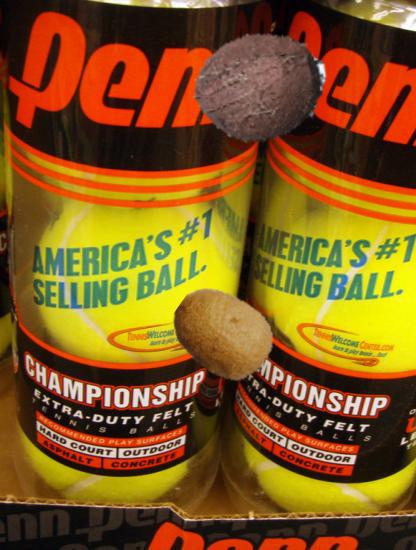Cocos: (189, 17, 329, 157)
Kiwi: (170, 282, 276, 388)
